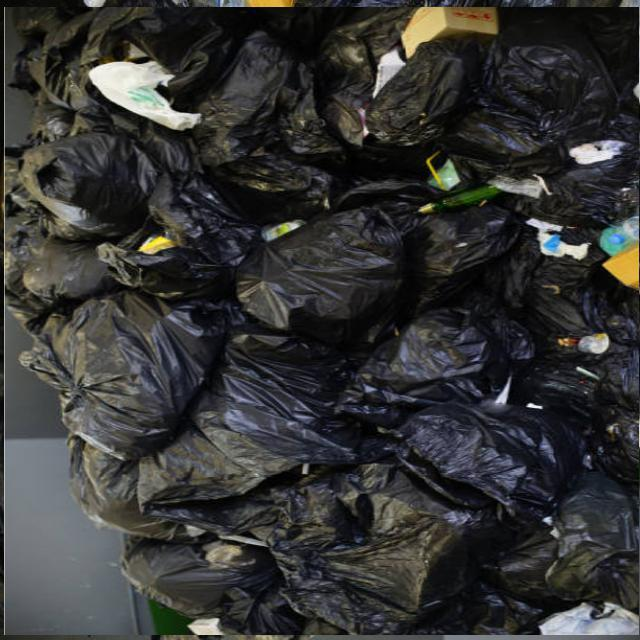Trashbag: (260, 458, 480, 638), (38, 288, 226, 450), (218, 210, 404, 336), (218, 324, 369, 465), (200, 39, 331, 200), (321, 28, 487, 150), (493, 473, 638, 612), (397, 392, 573, 502), (468, 29, 610, 160), (374, 295, 532, 389), (135, 179, 244, 309), (122, 524, 276, 616), (388, 200, 526, 298), (28, 126, 142, 232), (63, 424, 161, 542)
